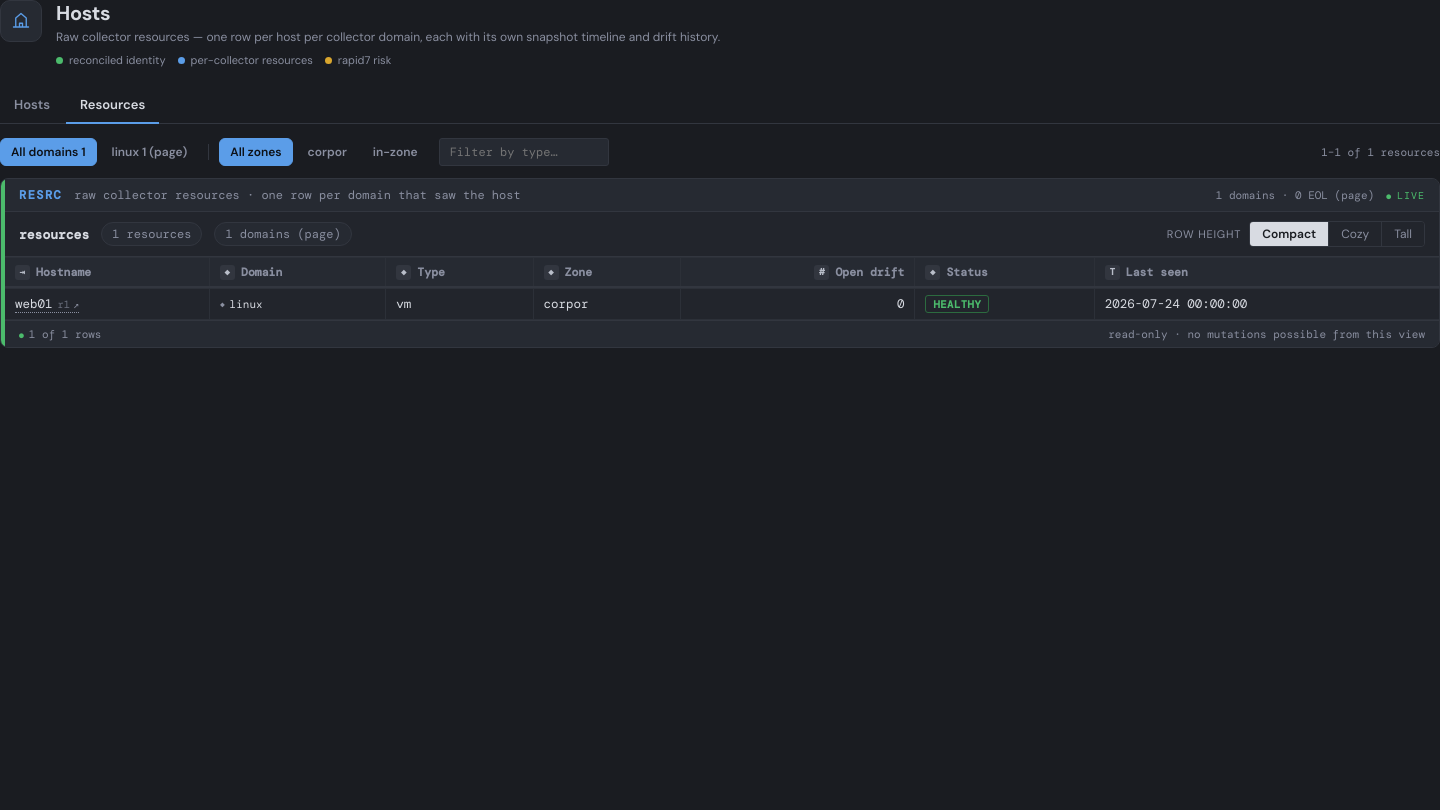
Test: Resources tab — drawer drift/snapshot fetch-failure handling (ported from Resources.test.tsx) › shows a visible error, NOT the reassuring empty-state copy, when the drift fetch fails
The image size is (1440, 810).
Check: the button "web01r1" is shown, box top-left (15, 296), bottom-right (79, 312)
What coordinates should you click on to do the following:
click the text "vm"
I would click on:
 (722, 304)
Its box is top-left (5, 288), bottom-right (1439, 320).
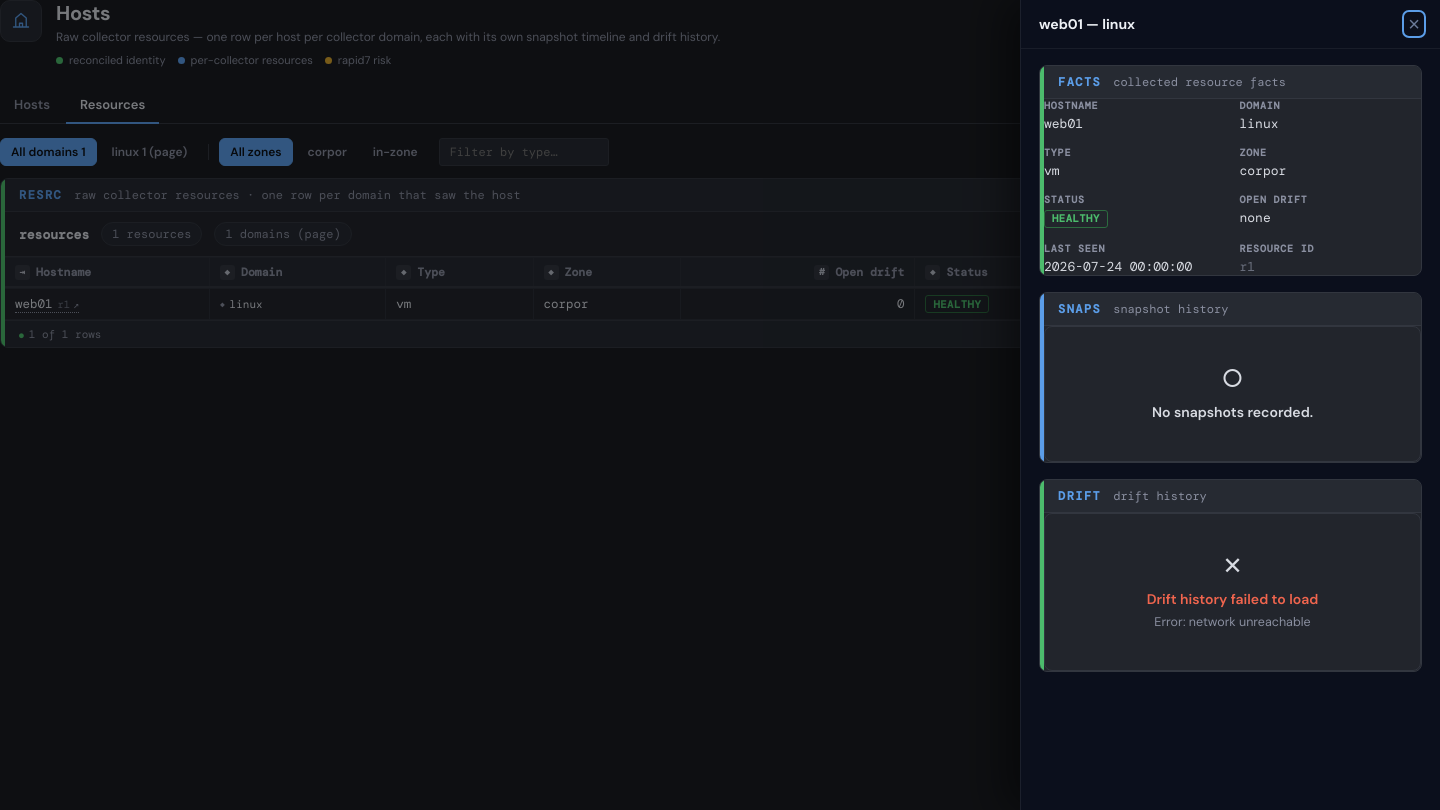
Check: the text "Drift history failed to load" is shown, box top-left (1147, 590), bottom-right (1318, 608)
